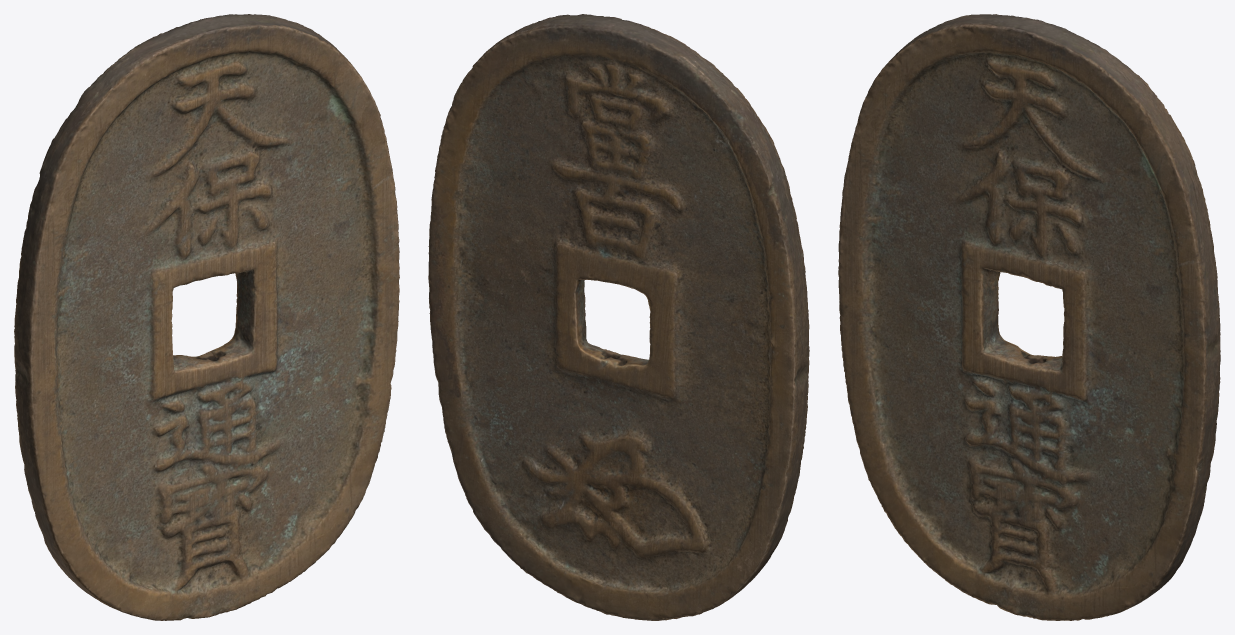
Rendered from tenpotsusyo.obj.
The picture shows the model from 3 angles, left to right: view 1: azimuth 30°, elevation 25°; view 2: azimuth 150°, elevation 25°; view 3: azimuth 330°, elevation 25°; orthographic projection.
Parts seen in each view (by area): view 1: tenpotsuusho.001; view 2: tenpotsuusho.001; view 3: tenpotsuusho.001.
Part boxes in pixels (x1,y1,x2,y2): tenpotsuusho.001: (14,14,399,620); tenpotsuusho.001: (428,14,809,620); tenpotsuusho.001: (838,14,1220,620).
Bounding box in the file's own units: 0.0339 × 0.0513 × 0.00281.
1 material, 1 textured.
